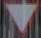Give way: (1, 0, 40, 35)
